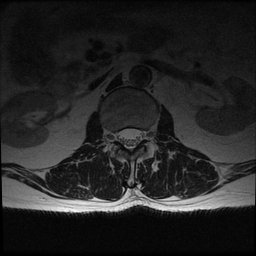CCS_normal: (125, 117, 134, 159)
LFS_normal: (143, 119, 151, 147)
LLS_normal: (134, 119, 143, 152)
RFS_normal: (107, 119, 116, 150)
RLS_normal: (116, 121, 125, 150)
